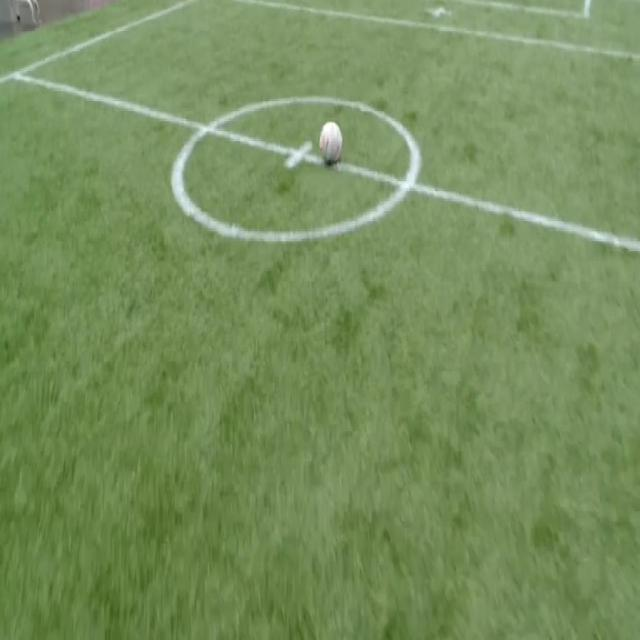ball: (320, 122, 342, 163)
